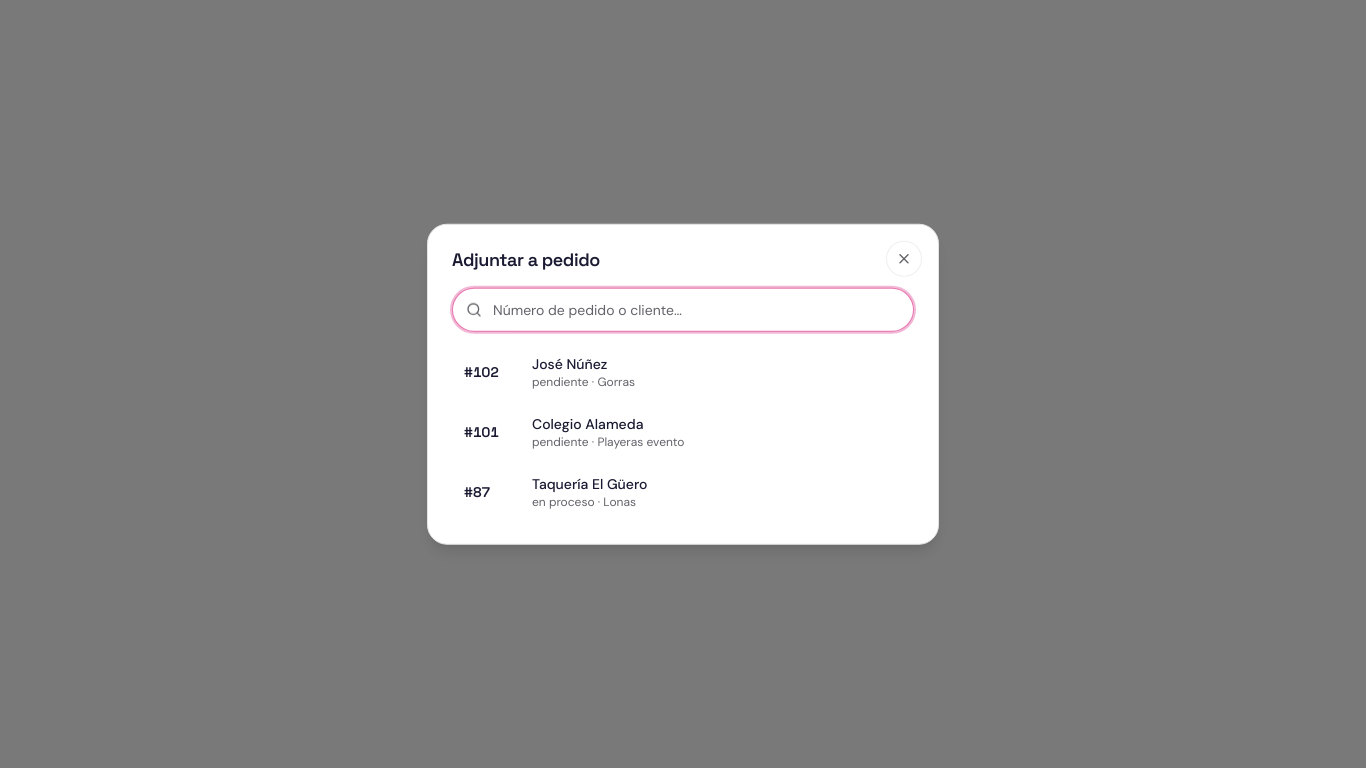
Test case: AttachToOrderDialog › sin coincidencias lo dice
Type "zzz" into the field named "Buscar pedido". click: (683,309)
box: [452,287,914,331]
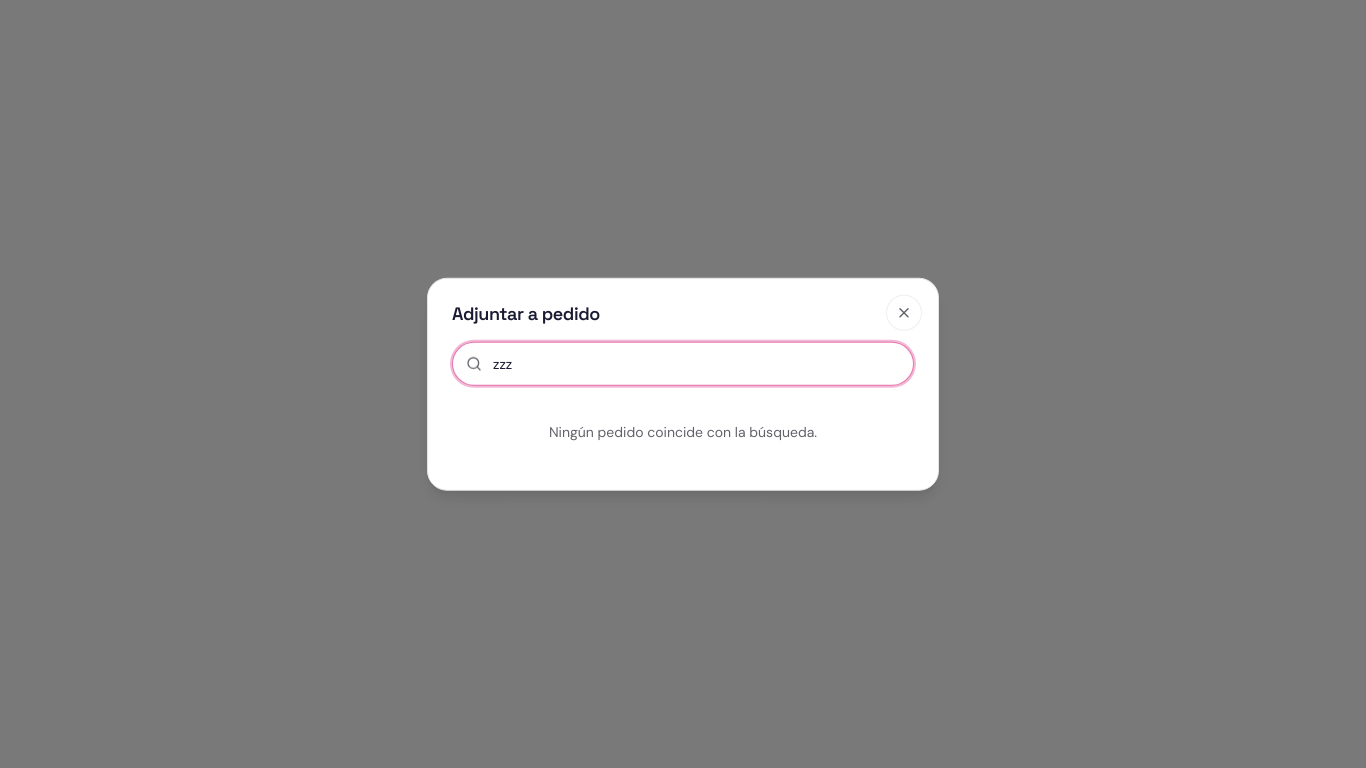
Now the text "Ningún pedido coincide con la búsqueda." is shown, box [549,422,817,440]
